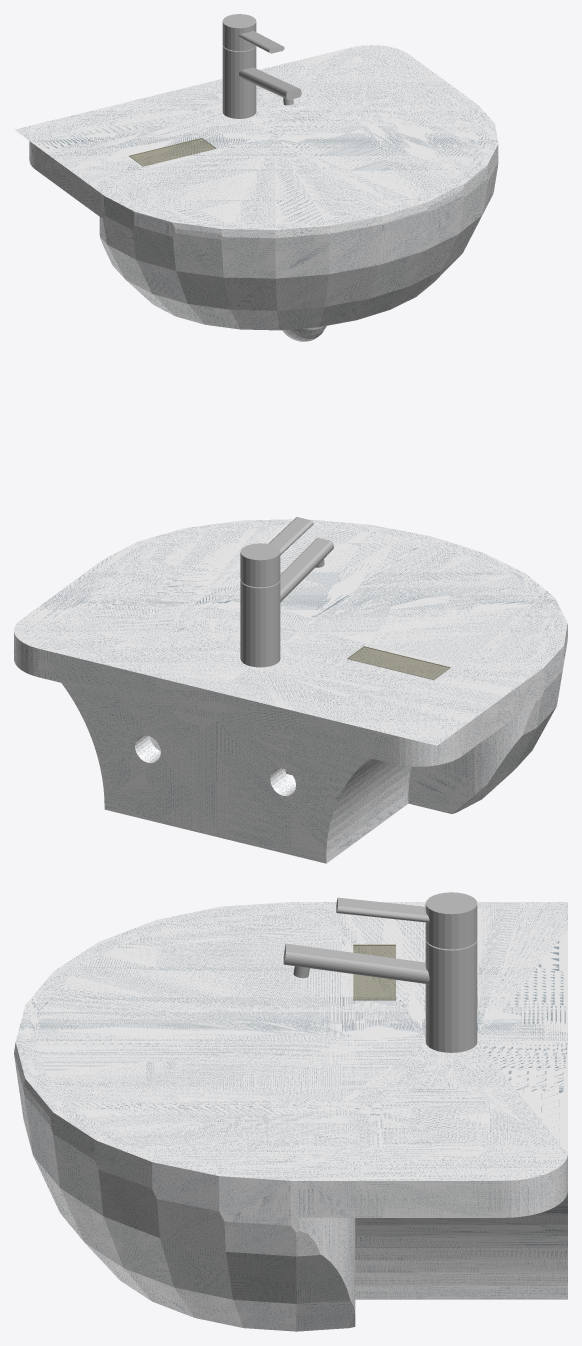
File: Basin.dae
3 views of the same model, one above another, from view 1: azimuth 30°, elevation 25°; view 2: azimuth 150°, elevation 25°; view 3: azimuth 270°, elevation 25° (orthographic). The views are drawn at different scales.
Parts seen in each view (by area): view 1: Component_1 (×9); view 2: Component_1 (×8); view 3: Component_1 (×8).
Part boxes in pixels (x1,y1,x2,y2): Component_1 (×9): [14, 14, 498, 341]; Component_1 (×8): [14, 517, 567, 863]; Component_1 (×8): [14, 892, 567, 1331].
Bounding box in the file's own units: 20.08 × 16.86 × 14.22.
